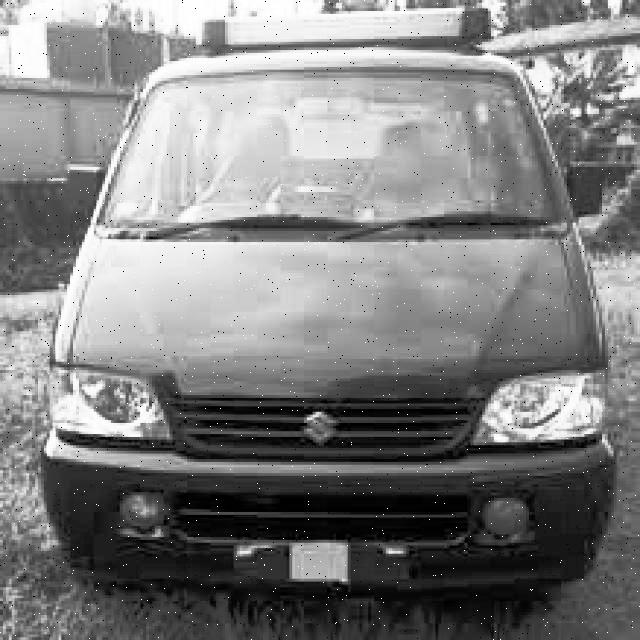Car: (55, 51, 621, 607)
